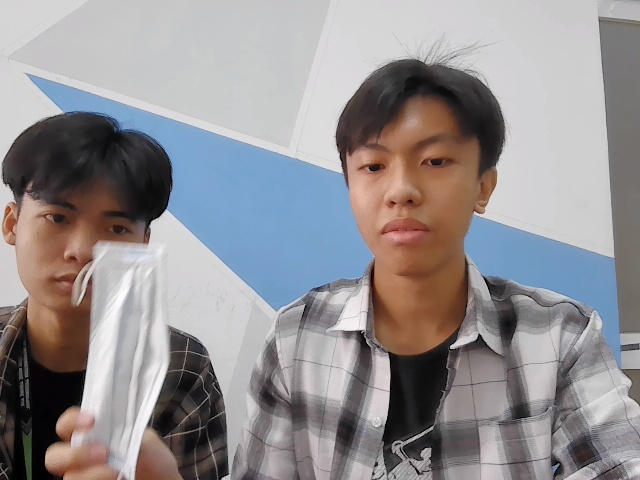human: (337, 58, 503, 277), (9, 117, 170, 321)
mask: (82, 238, 171, 478)
